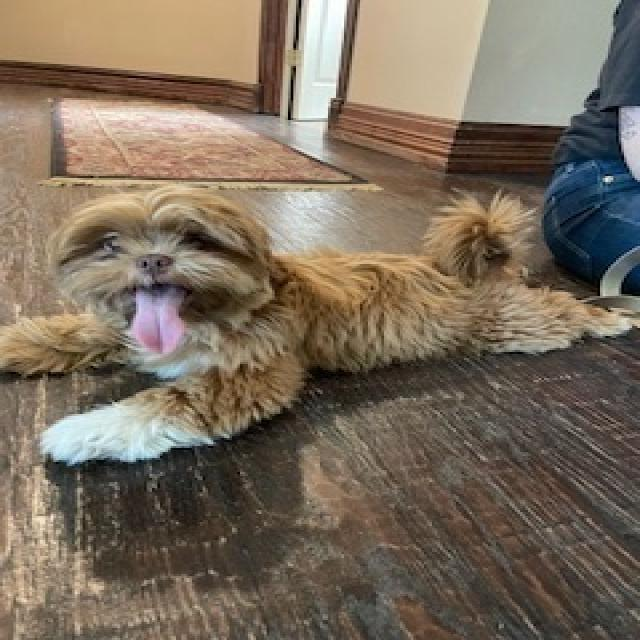shih_tzu_dog: (39, 183, 278, 370)
